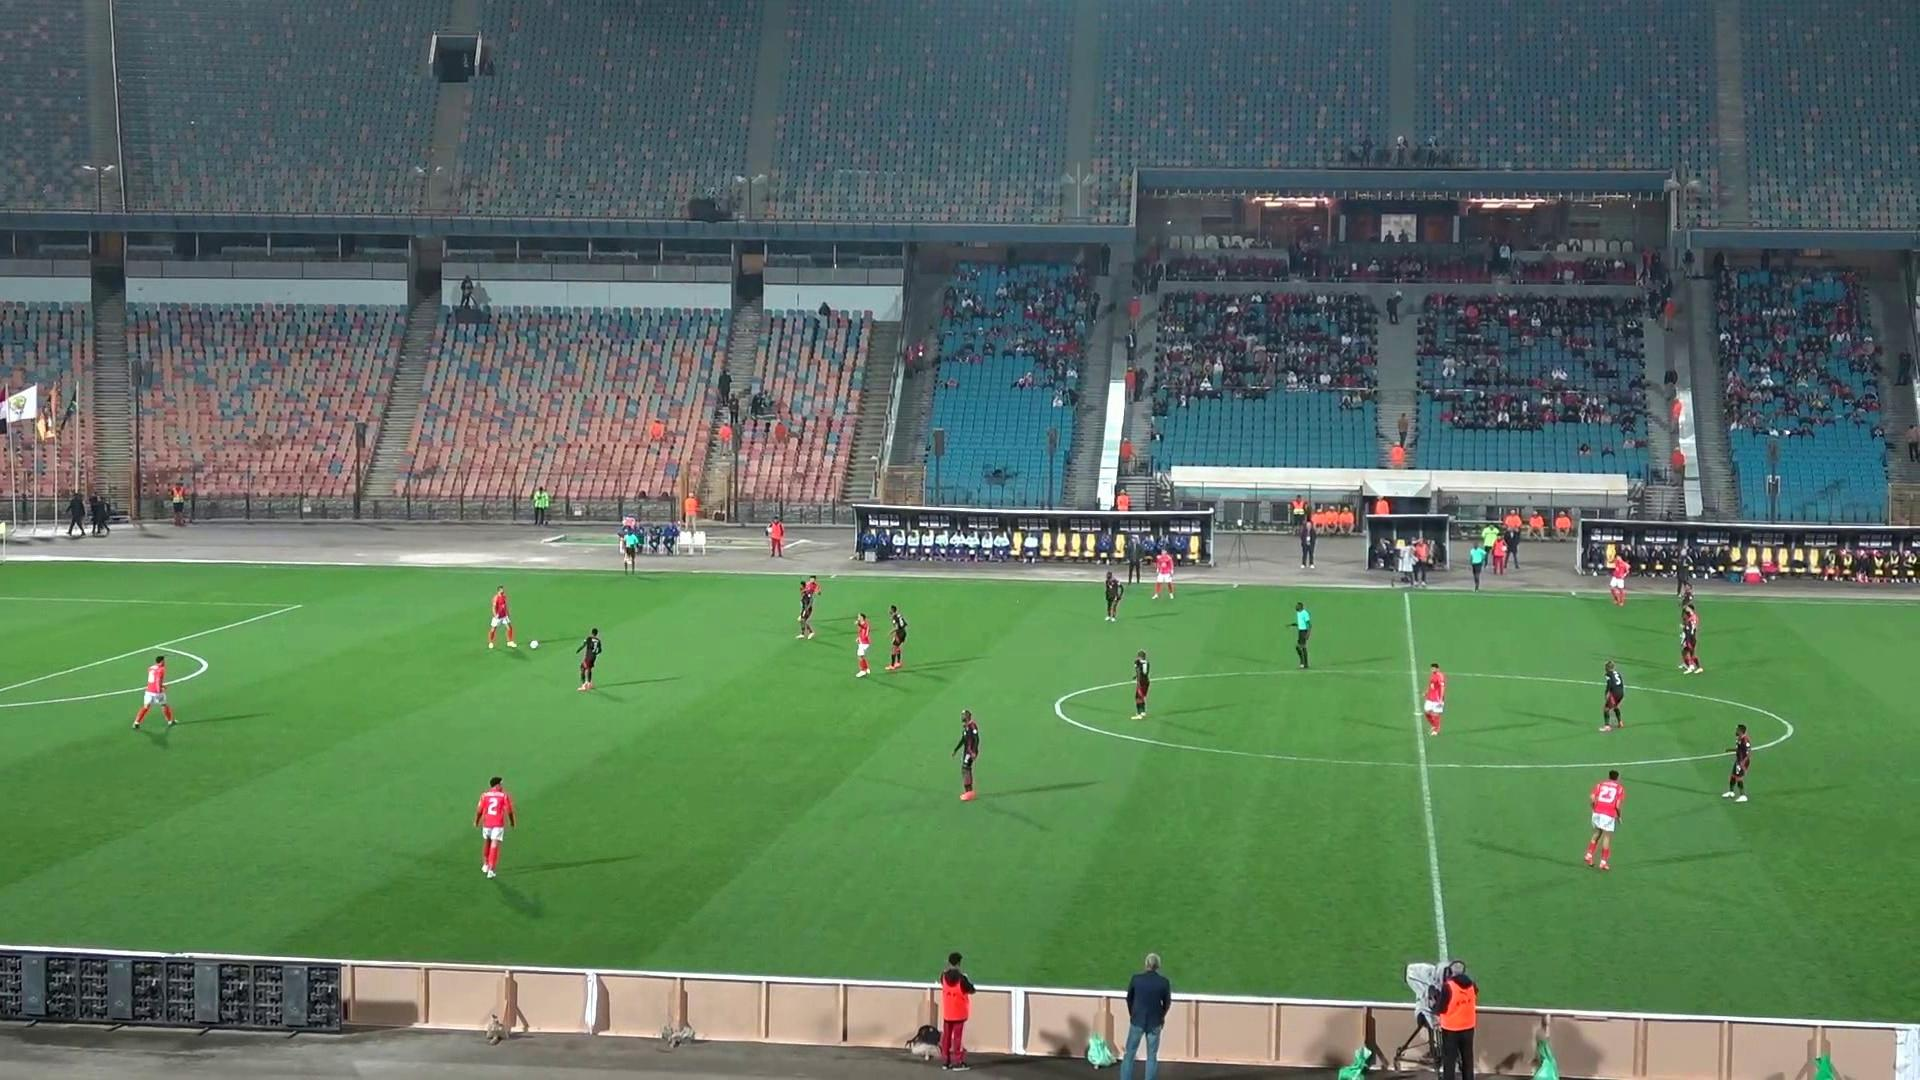Ball: (527, 640, 541, 649)
Refree: (618, 517, 644, 574), (1291, 601, 1311, 669), (1468, 537, 1489, 589)
Team1: (473, 775, 516, 878), (1582, 771, 1625, 868), (131, 655, 175, 728), (487, 585, 517, 647), (1422, 663, 1447, 735), (1151, 546, 1174, 597), (855, 612, 872, 676), (1609, 554, 1630, 605)
Team2: (1721, 723, 1753, 800), (952, 709, 978, 800), (1600, 659, 1626, 731), (1677, 603, 1702, 673), (578, 626, 603, 690), (796, 575, 820, 640), (885, 605, 907, 670), (1104, 571, 1125, 621), (1134, 650, 1149, 717), (1677, 578, 1695, 608)
